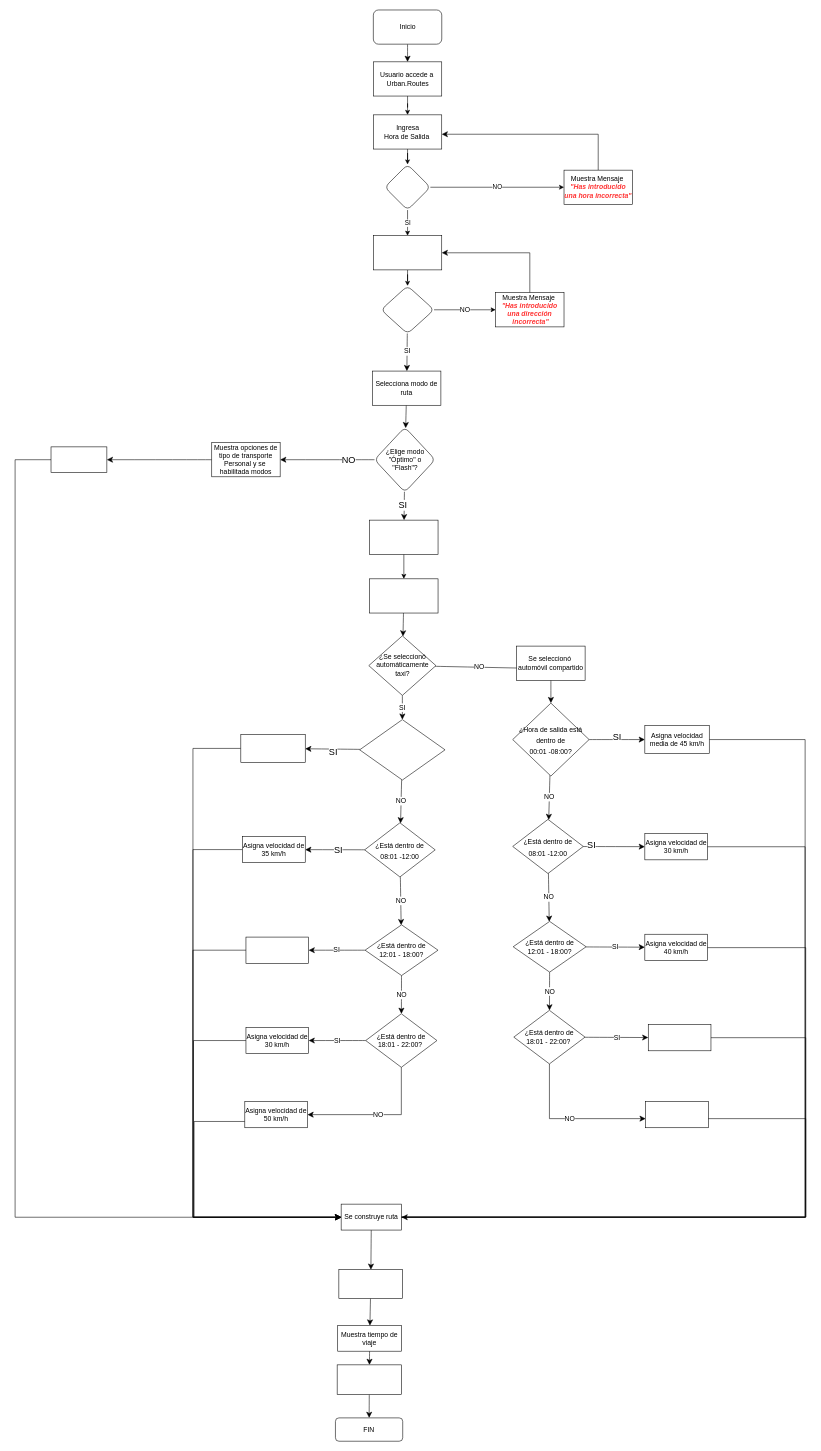
The diagram is 821 pixels wide and 1451 high, and some of its shapes have lost their labels. The centre of each missing label's shape, as x and y in pixels:
Asigna velocidad de 25 km/h: the point at 679,1037
Asigna velocidad de 42 km/h: the point at 277,950
Asigna velocidad de 45 km/h: the point at 676,1114
Asigna velocidad media de 50 km/h: the point at 272,748
Ingresa dirección Desde/Hasta: the point at 407,252
Muestra costo de viaje: the point at 370,1283
Se desactiva otras opciones de tipo de transporte: the point at 403,595
Se habilita botón Pedir: the point at 369,1379
Sistema asigna tipo de transporte automáticamente: the point at 403,537
Usuario elige otro modo deseado: the point at 78,459
¿Dirección es correcta?: the point at 407,309
¿Hora de salida es valida?: the point at 407,187
¿Hora de salida está dentro 00:01 -08:00?: the point at 402,749
